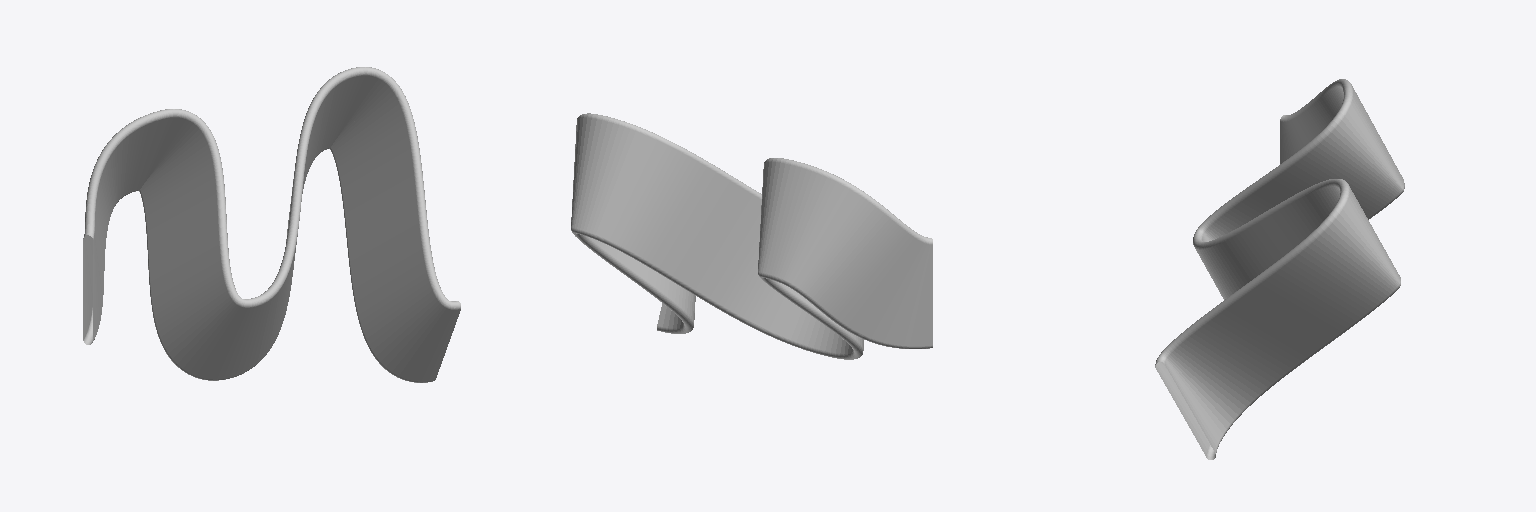
Rendered from bezier.obj.
3 renders of one model, left to right at view 1: azimuth 30°, elevation 25°; view 2: azimuth 150°, elevation 25°; view 3: azimuth 270°, elevation 25°, orthographic.
Parts seen in each view (by area): view 1: BezierCurve; view 2: BezierCurve; view 3: BezierCurve.
Part boxes in pixels (x1,y1,x2,y2): BezierCurve: (83,67,460,382); BezierCurve: (571,113,932,359); BezierCurve: (1155,79,1404,459).
Size of the model in its own units: 4.21 by 3.21 by 2.69.